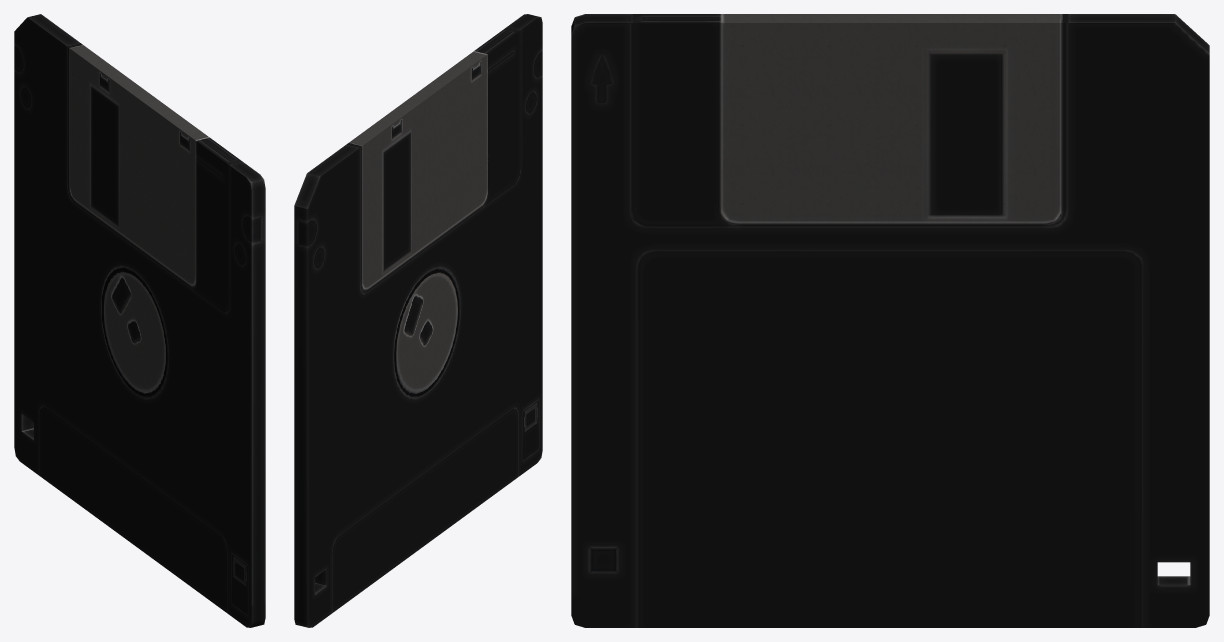
File: floppy_disk.glb
3 views of the same model, side by side, from view 1: azimuth 30°, elevation 25°; view 2: azimuth 150°, elevation 25°; view 3: azimuth 270°, elevation 25° (orthographic). The views are drawn at different scales.
Parts seen in each view (by area): view 1: Object_2; view 2: Object_2; view 3: Object_2.
Part boxes in pixels (x1,y1,x2,y2): Object_2: (14, 14, 265, 627); Object_2: (294, 14, 542, 627); Object_2: (571, 14, 1209, 627).
Size of the model in its own units: 0.1181 by 3.7 by 3.54.
Materials: 1 (1 with a texture image).
